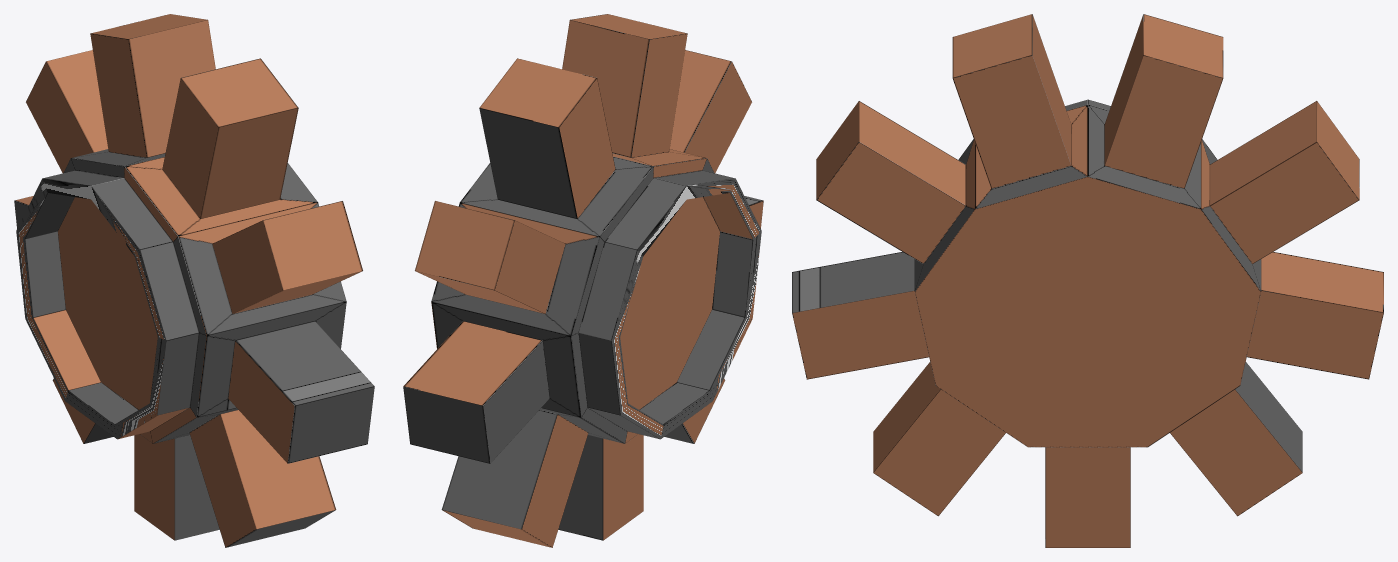
Rendered from box_gear_l.obj.
3 views of the same model, side by side, from view 1: azimuth 30°, elevation 25°; view 2: azimuth 150°, elevation 25°; view 3: azimuth 270°, elevation 25° (orthographic). The views are drawn at different scales.
Parts seen in each view (by area): view 1: Beam_to_gear_box_l_Cylinder.009; view 2: Beam_to_gear_box_l_Cylinder.009; view 3: Beam_to_gear_box_l_Cylinder.009.
Part boxes in pixels (left/top/right/bottom): Beam_to_gear_box_l_Cylinder.009: left=14, top=14, right=374, bottom=547; Beam_to_gear_box_l_Cylinder.009: left=403, top=14, right=763, bottom=547; Beam_to_gear_box_l_Cylinder.009: left=792, top=14, right=1383, bottom=547.
Bounding box in the file's own units: 0.5759 × 1.48 × 1.61.
Materials: 1 (1 with a texture image).
